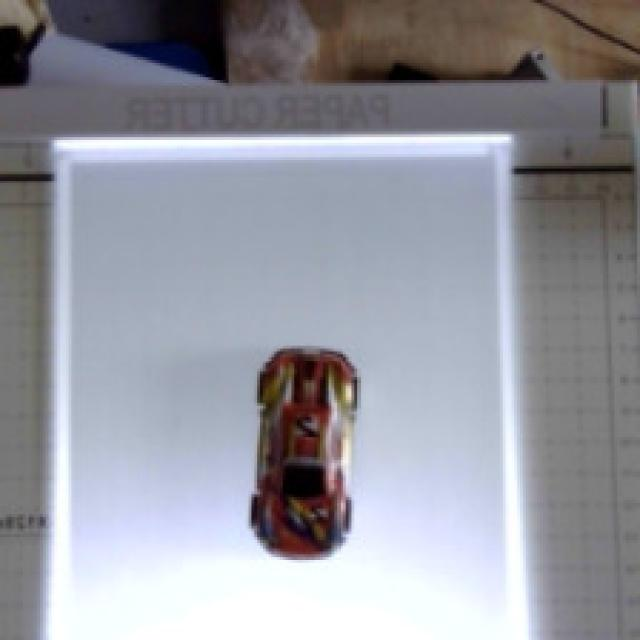Red Car: (201, 288, 397, 622)
